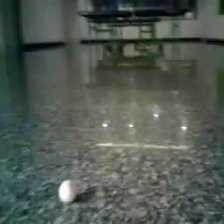w: (57, 179, 76, 201)
